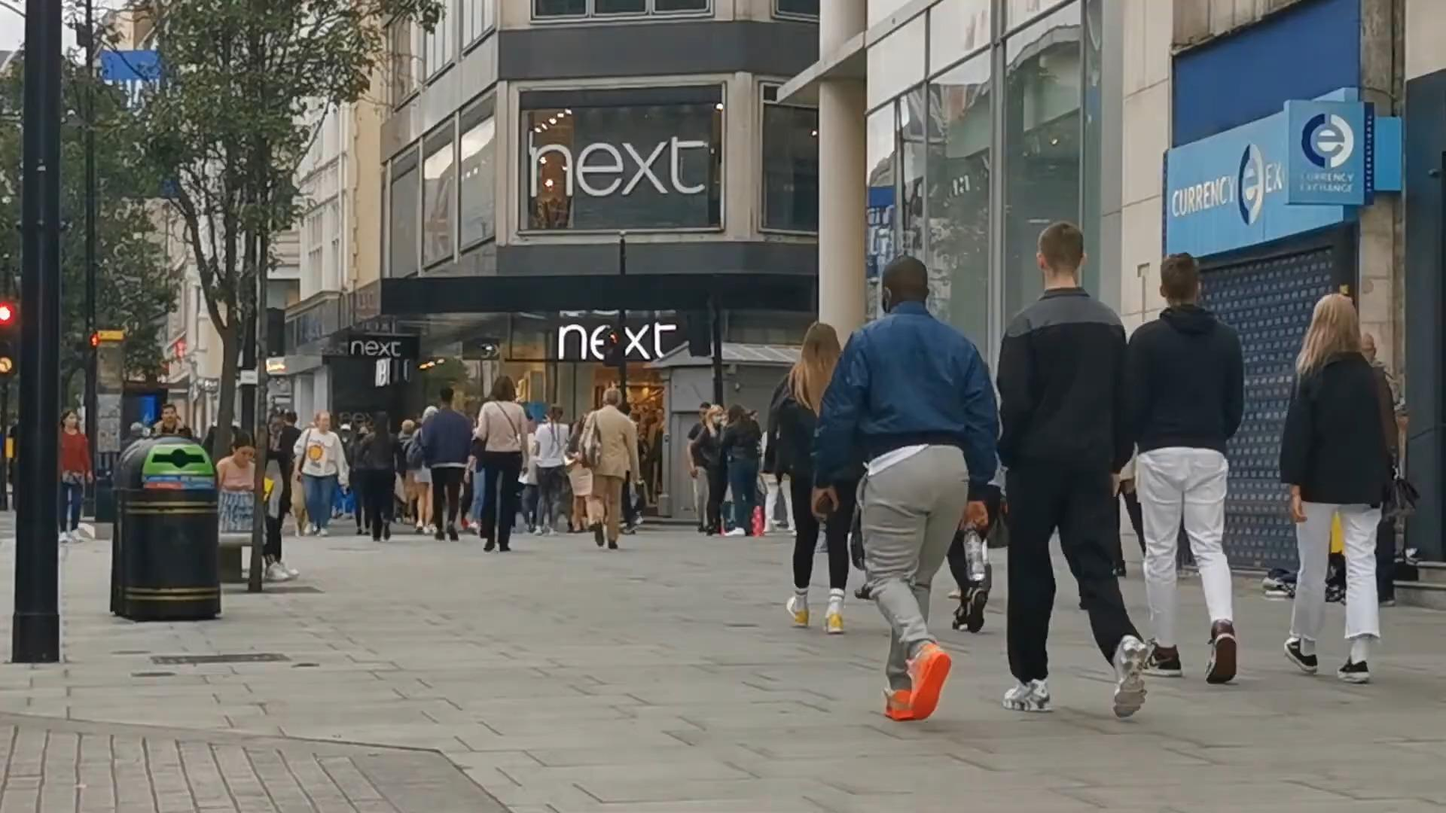no-helmet: (1305, 294, 1361, 350), (1036, 220, 1087, 279), (881, 254, 929, 314), (1159, 251, 1201, 305), (797, 320, 841, 365), (230, 430, 256, 466), (491, 375, 516, 403), (601, 388, 622, 409), (728, 404, 750, 424), (60, 408, 80, 429), (545, 404, 564, 426), (705, 405, 723, 426), (314, 410, 330, 432), (160, 403, 177, 423)
